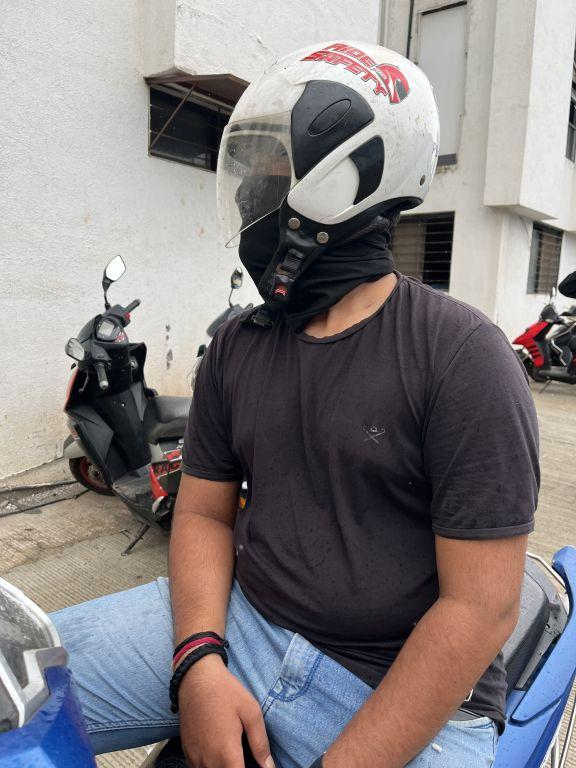helmet: (202, 27, 450, 283)
